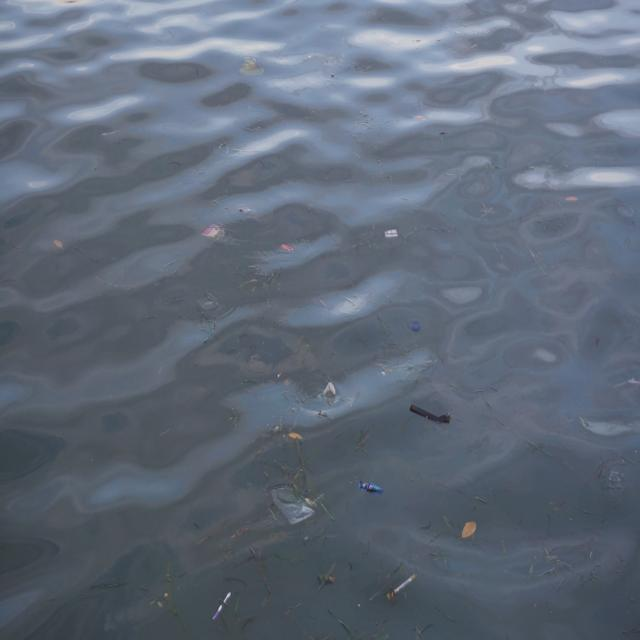Botol Plastik: (322, 382, 339, 401), (412, 320, 421, 333)
Bungkus Makanan: (387, 573, 418, 600), (359, 477, 385, 501), (202, 223, 227, 243), (385, 225, 400, 241)
Kantong Plastik: (271, 481, 318, 529)
